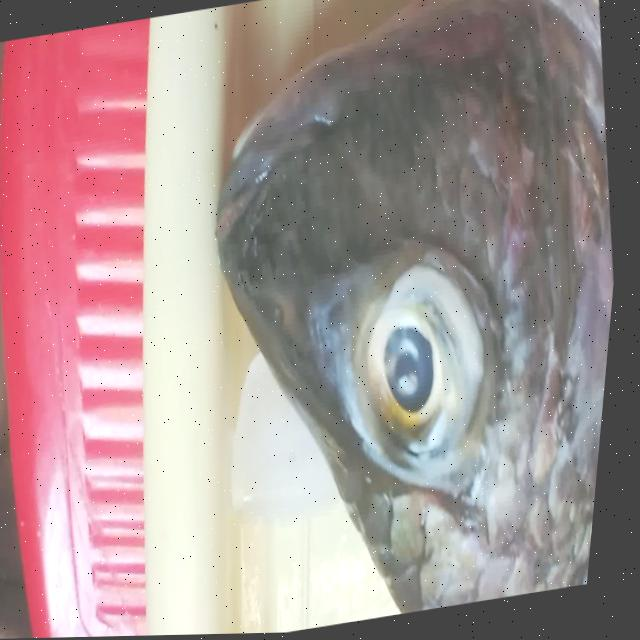Fresh: (315, 212, 542, 516)
